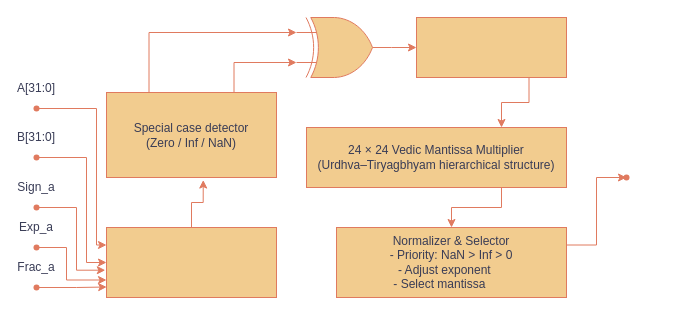
The diagram is 688 pixels wide and 315 high, and some of its shapes have lost their labels. Each missing label, with the centre of its shape:
"Exponent Adder Exp_sum = Ea + Eb -127" belongs at (491,47).
"Field Extractor (Sign, Exp, Frac)" belongs at (191,262).
"Output (Y [31:0])" belongs at (626,177).
"Sign XOR S_out = S_a ⊕ S_b" belongs at (344,47).
